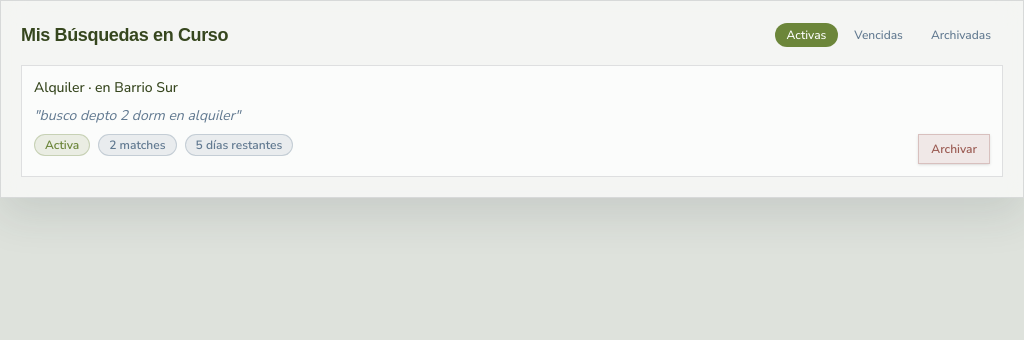
Test: ActiveSearchesSection (KAN-191) › el tab Archivadas agrupa 'cancelled'/'matched' y no muestra acciones
The image size is (1024, 340).
Expected: the number of buttons "Archivar" is 1, [918, 134, 990, 164]
Click the button "Archivadas" at (961,35), box [919, 23, 1003, 47]
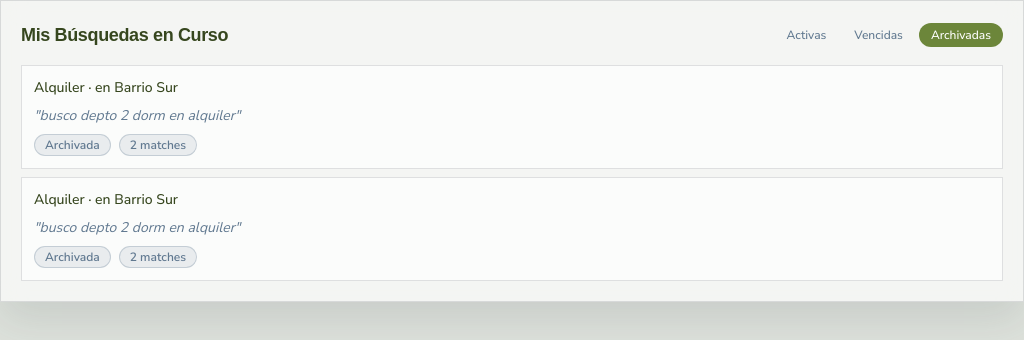
Expected: the text "Archivada" is shown 2 times, [34, 134, 111, 156]; [34, 246, 111, 268]
Expected: the button "Archivar" is gone
